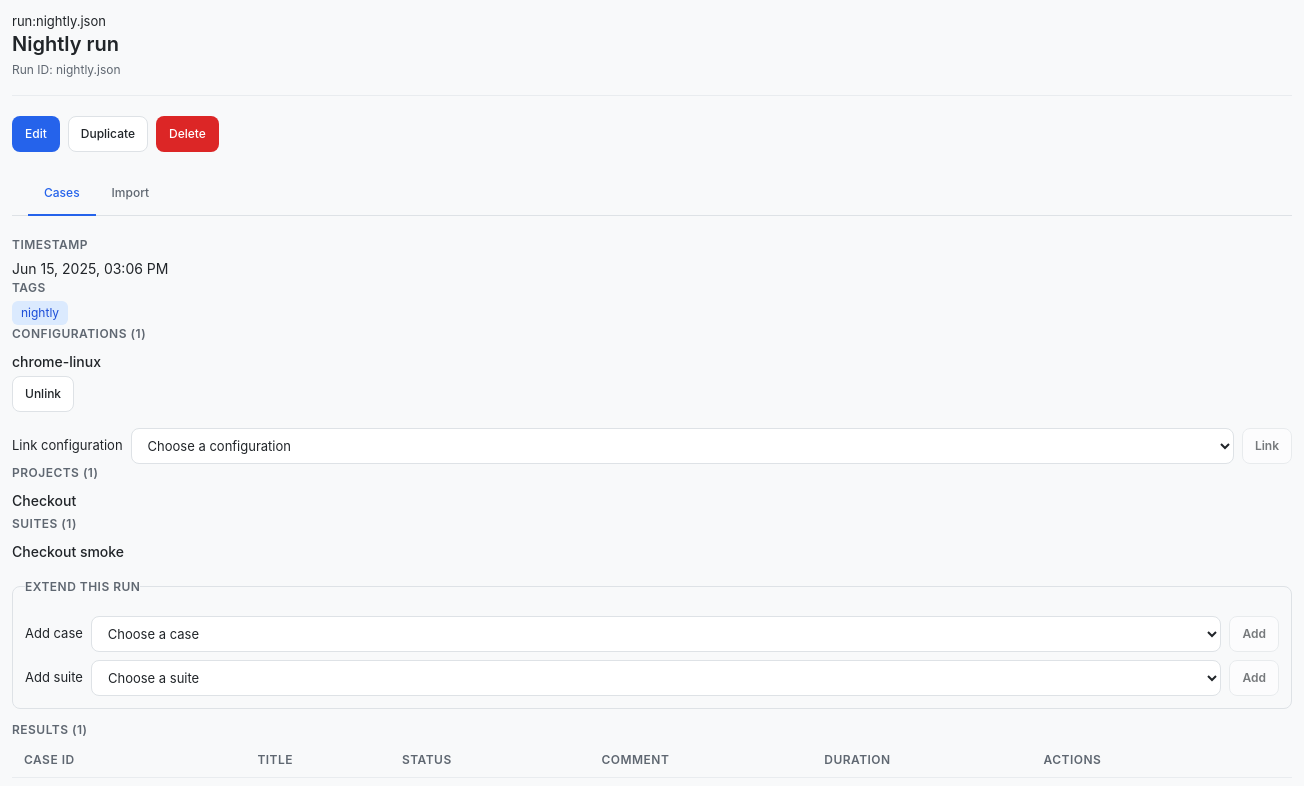
Test case: RunDetail › reads the home project's inventories for the membership controls (#182)
The width and height of the screenshot is (1304, 786).
Expected: the heading "Nightly run" is shown, x1=12 y1=32 x2=119 y2=56
Step 1. Click the button "Edit" → (36, 134), box x1=12 y1=116 x2=60 y2=152
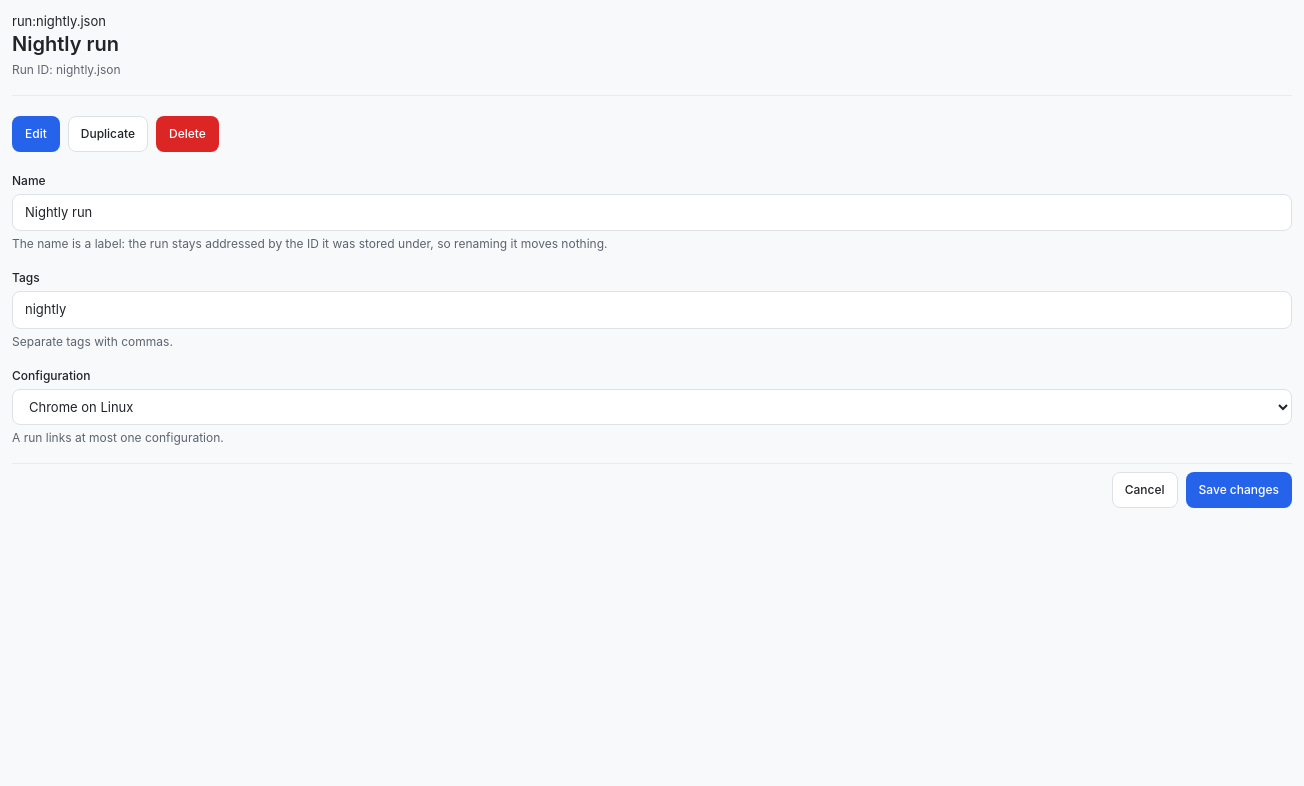
Expected: the field labelled "Name" holds "Nightly run", x1=12 y1=194 x2=1292 y2=231
Expected: the dropdown labelled "Configuration" shows "Chrome on Linux", x1=12 y1=388 x2=1292 y2=424
